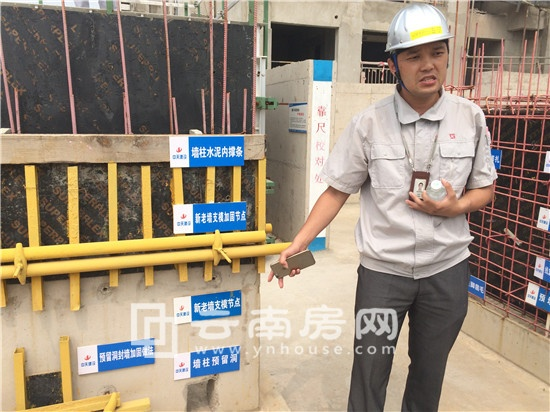white: (377, 1, 458, 100)
